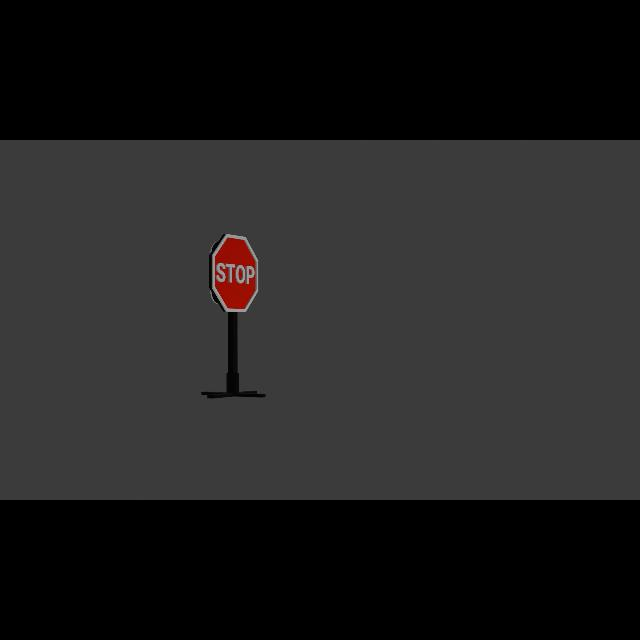sign_stop: (210, 234, 260, 314)
